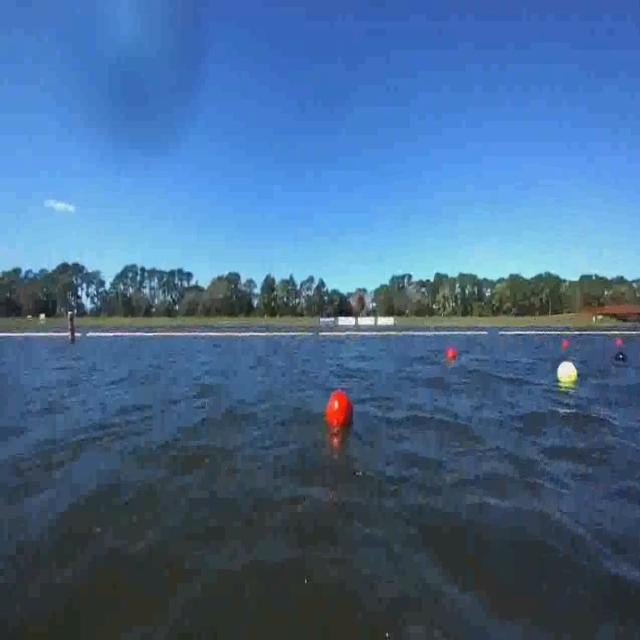black-buoy: (616, 351, 628, 362)
red-buoy: (326, 392, 354, 429), (448, 348, 458, 361), (562, 341, 570, 350)
yellow-buoy: (558, 359, 578, 384)
